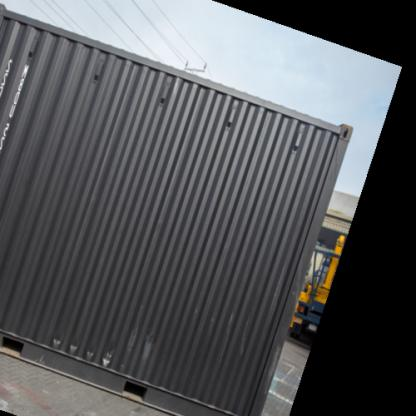Damage: (48, 332, 122, 368), (119, 322, 156, 364)
